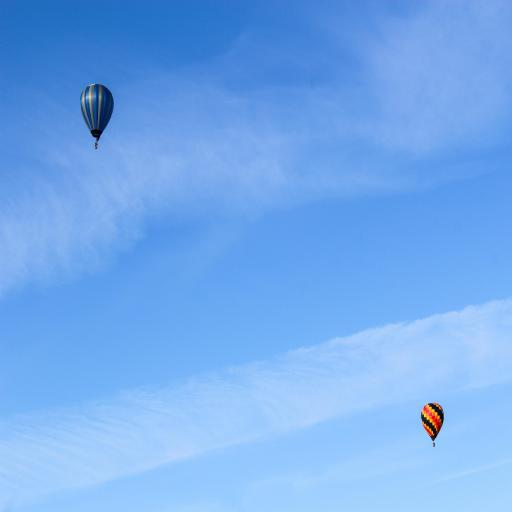hot air ballon: (80, 83, 114, 150), (421, 403, 444, 447)
